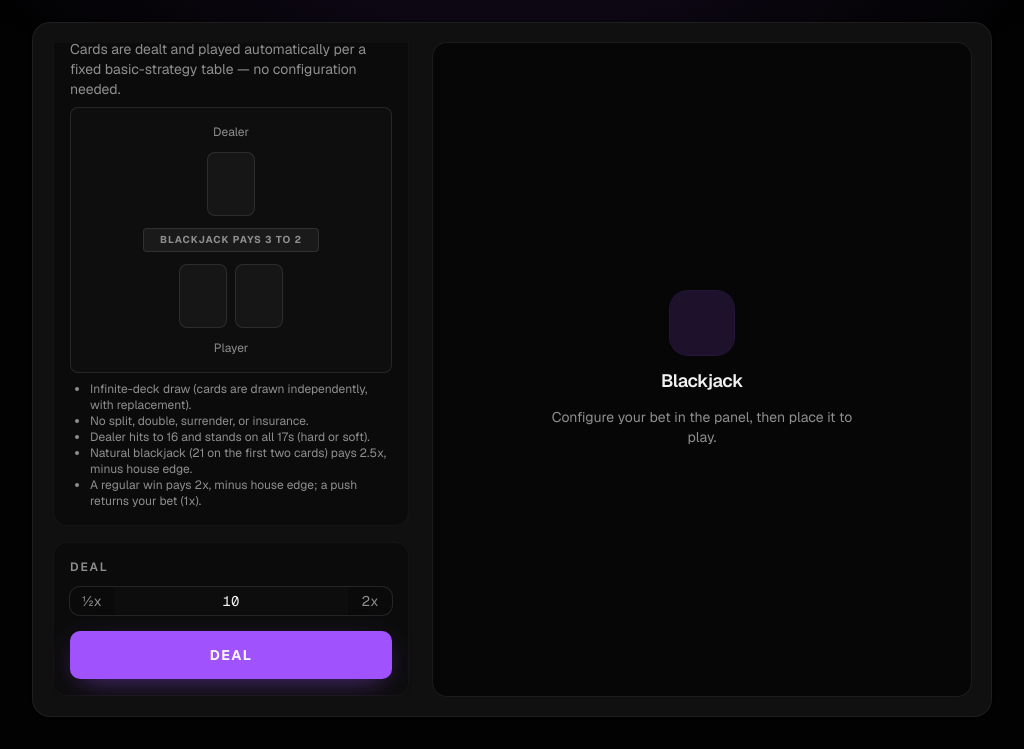
Test: GamePage reveal flow (previously-broken single-reveal games) › reaches phase=done and renders ResultOverlay after a blackjack bet
(page scrolled)
Click the button "DEAL" at (231, 655), box [70,631,392,679]
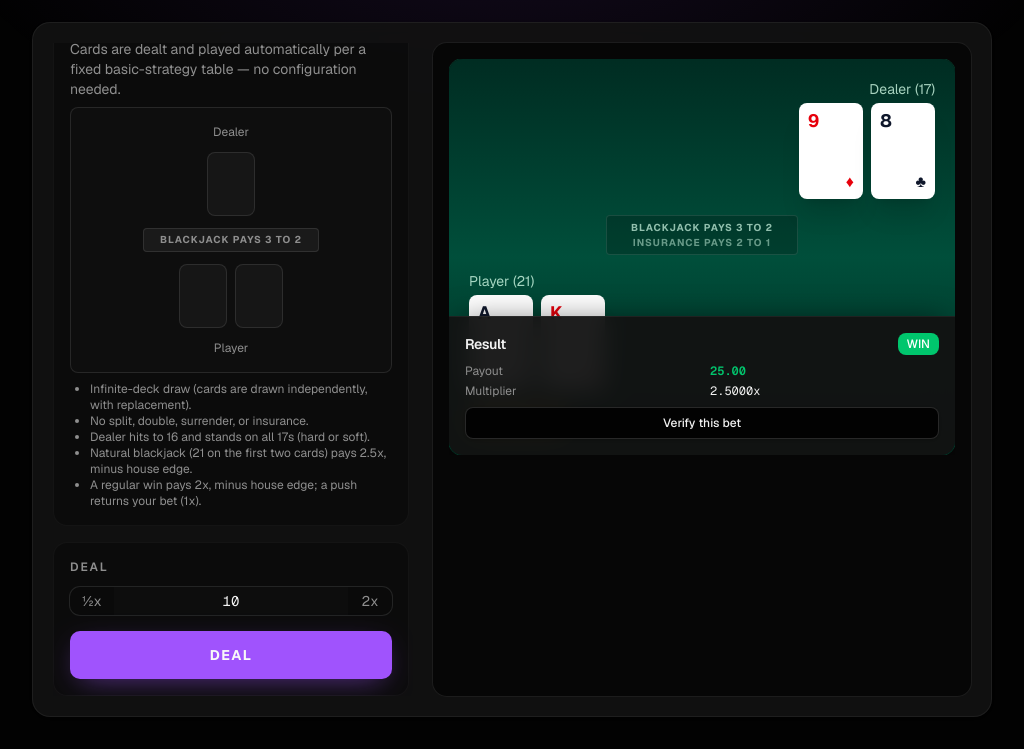
Result: the text "Result" is shown at [465,334,506,354]
Result: the link "Verify this bet" is shown at [465,407,939,439]
